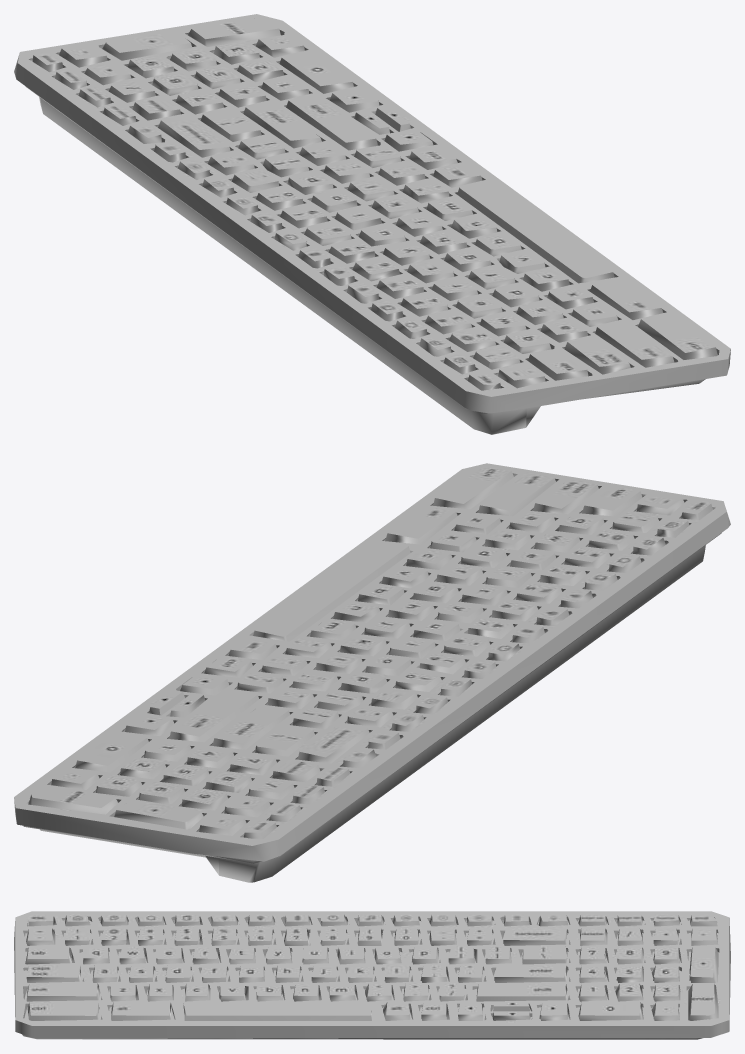
File: keyboard.glb
The picture shows the model from 3 angles, top to bottom: view 1: azimuth 30°, elevation 25°; view 2: azimuth 150°, elevation 25°; view 3: azimuth 270°, elevation 25°; orthographic projection. The views are drawn at different scales.
Visible parts, largest first — view 1: keyboard.003; view 2: keyboard.003; view 3: keyboard.003.
Boxes of the visible parts, x1,y1,x2,y2 form: keyboard.003: (14, 14, 730, 434); keyboard.003: (14, 463, 730, 882); keyboard.003: (14, 911, 730, 1039).
Bounding box in the file's own units: 0.2256 × 0.0432 × 0.6945.
1 material, 1 textured.
